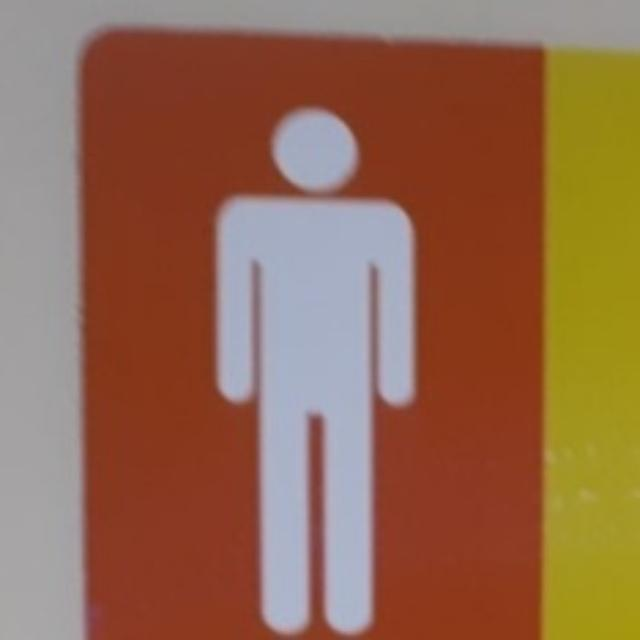wc nam: (82, 33, 539, 637)
